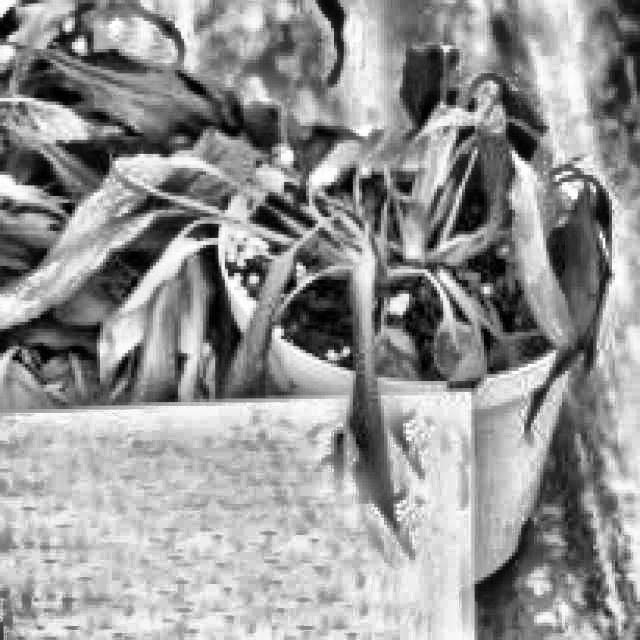plants: (2, 25, 604, 403), (78, 233, 234, 378)
